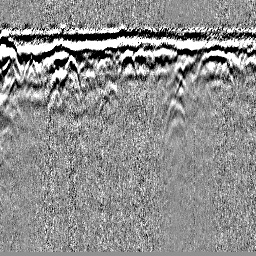cavity: (117, 47, 138, 77)
